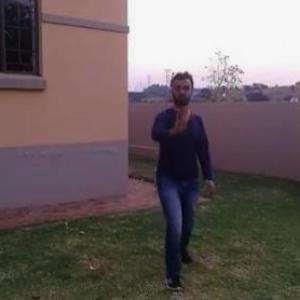takeoff-hand: (171, 104, 192, 138)
